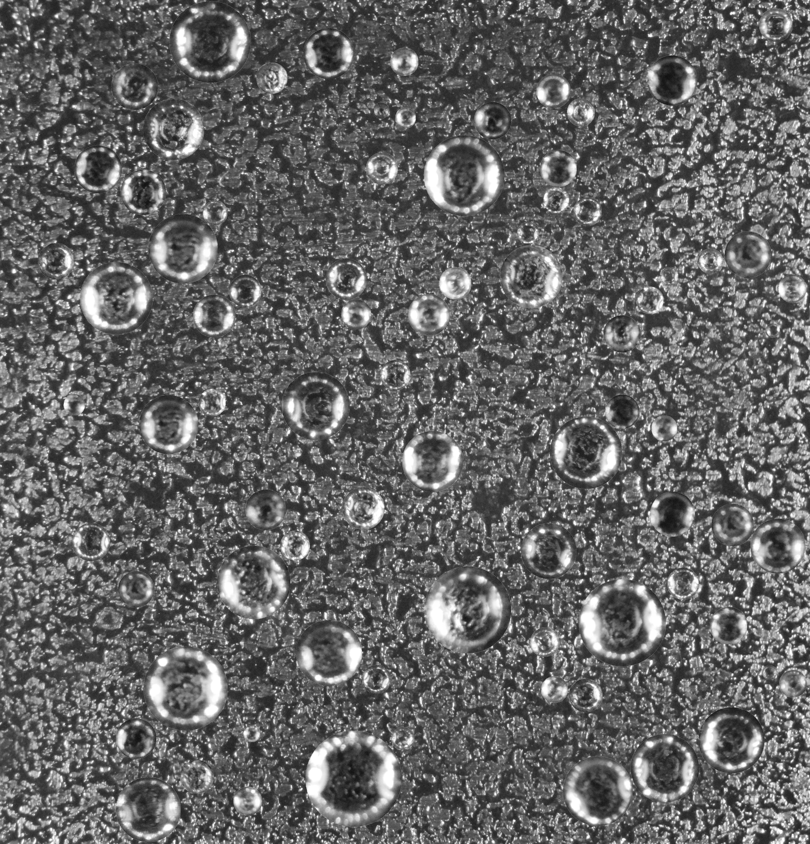Bubble: (305, 730, 401, 826), (424, 566, 511, 653), (578, 579, 665, 666), (143, 646, 227, 730), (169, 1, 250, 82), (424, 135, 504, 215), (217, 545, 290, 619), (550, 416, 622, 488), (80, 262, 152, 334), (563, 756, 632, 826), (148, 214, 217, 283), (630, 734, 699, 802), (281, 372, 349, 439), (698, 707, 764, 773), (296, 620, 361, 685), (115, 777, 180, 842), (500, 245, 562, 307), (143, 98, 204, 159), (402, 431, 463, 491), (139, 395, 198, 454), (750, 518, 805, 573), (521, 523, 576, 578), (303, 28, 354, 78), (647, 55, 697, 105), (74, 145, 121, 193), (724, 231, 771, 277), (111, 63, 157, 109), (650, 491, 695, 536), (120, 169, 165, 214), (192, 294, 235, 337), (711, 503, 753, 546), (342, 487, 384, 529), (408, 294, 449, 335), (325, 258, 366, 299), (245, 489, 285, 530), (115, 718, 156, 758), (72, 523, 110, 561), (474, 101, 511, 139), (710, 607, 747, 644), (603, 315, 640, 352), (37, 243, 74, 279), (540, 150, 576, 186), (118, 571, 154, 607), (605, 394, 639, 428), (536, 74, 570, 108), (569, 678, 602, 712), (180, 760, 213, 793), (759, 8, 792, 41), (229, 274, 261, 307), (667, 567, 699, 599), (439, 267, 471, 299), (366, 152, 397, 184), (256, 62, 287, 93), (380, 360, 410, 390), (341, 299, 371, 329), (280, 530, 309, 560), (233, 786, 262, 815), (530, 627, 559, 656), (390, 47, 418, 75), (778, 274, 806, 302), (573, 197, 601, 225), (362, 665, 390, 693), (567, 98, 594, 126), (636, 286, 663, 313), (198, 389, 225, 416), (779, 670, 806, 697), (541, 676, 567, 702), (651, 415, 677, 441), (543, 187, 569, 213), (202, 200, 227, 225), (698, 248, 723, 273), (391, 727, 414, 750), (517, 221, 539, 243), (63, 394, 84, 415), (395, 107, 415, 128), (243, 725, 260, 742), (661, 267, 678, 284), (373, 102, 389, 118), (765, 323, 779, 337), (762, 665, 776, 679)
